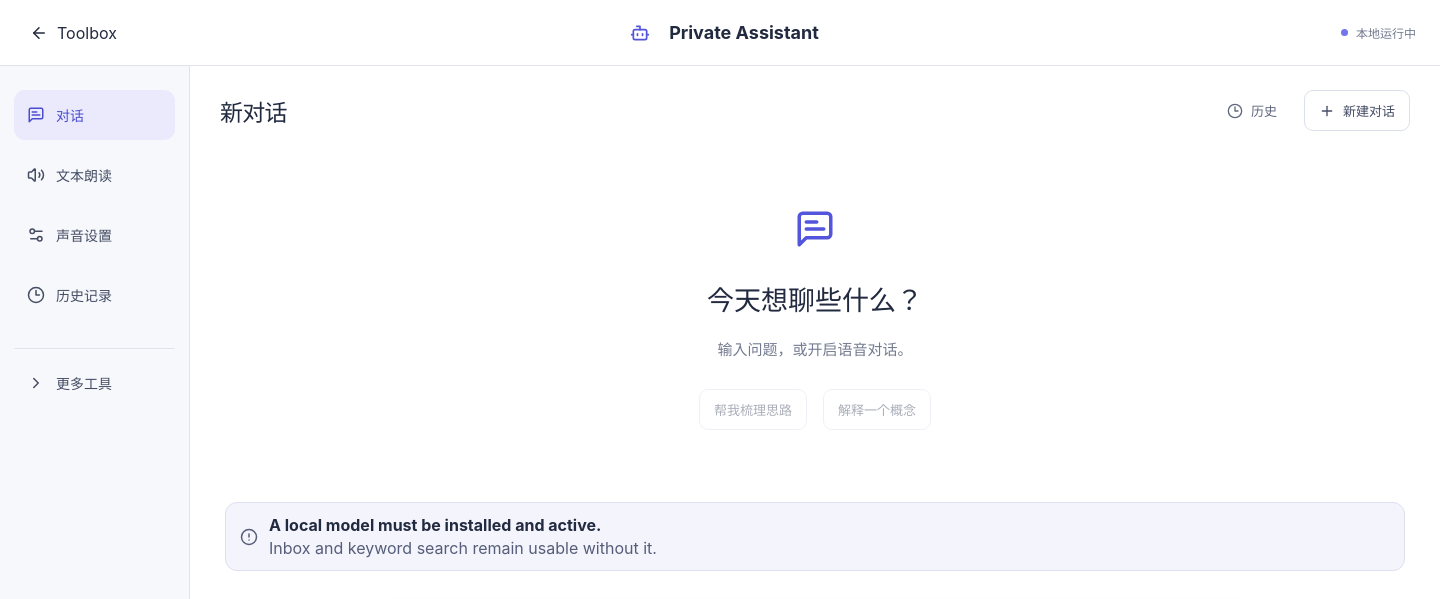
Test: Private Assistant workspace › normalizes an invalid Assistant route and preserves Back/Forward hash navigation
Check: the heading "新对话" is shown, box [220, 94, 287, 128]
Step 1. Click the button "更多工具" → coordinates (94, 378), box [14, 348, 175, 408]
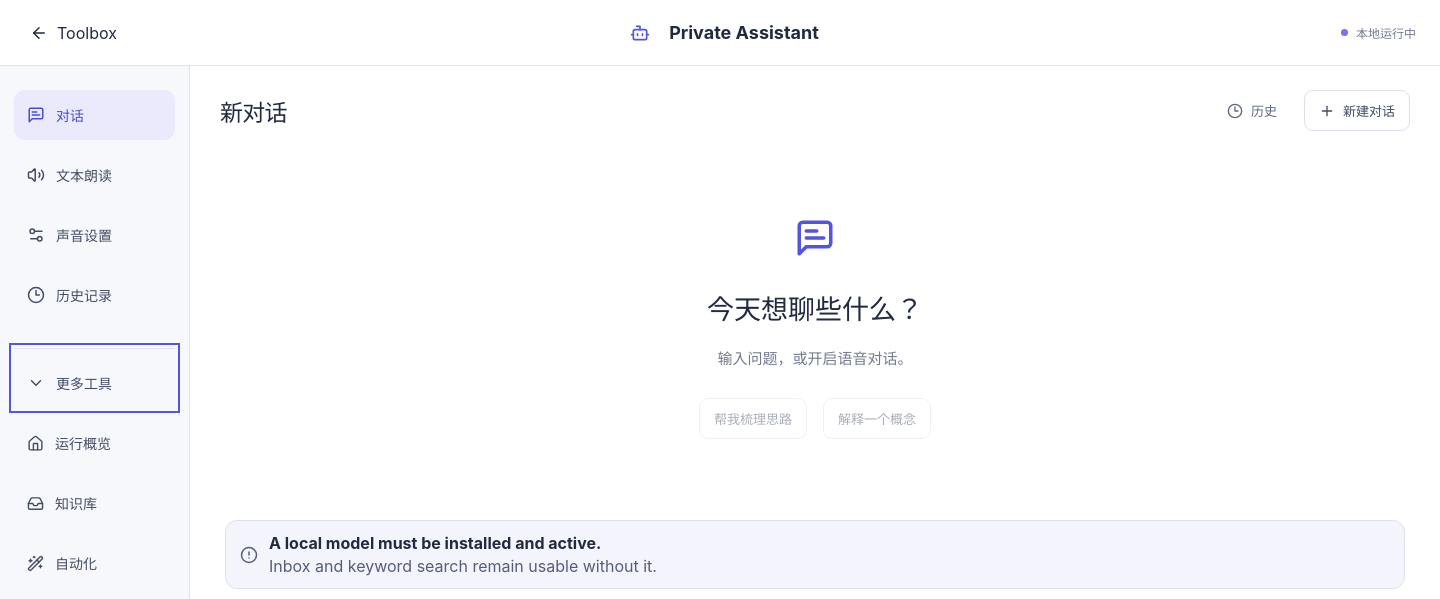
Step 2. Click the button "知识库" → coordinates (94, 503), box [14, 478, 175, 528]
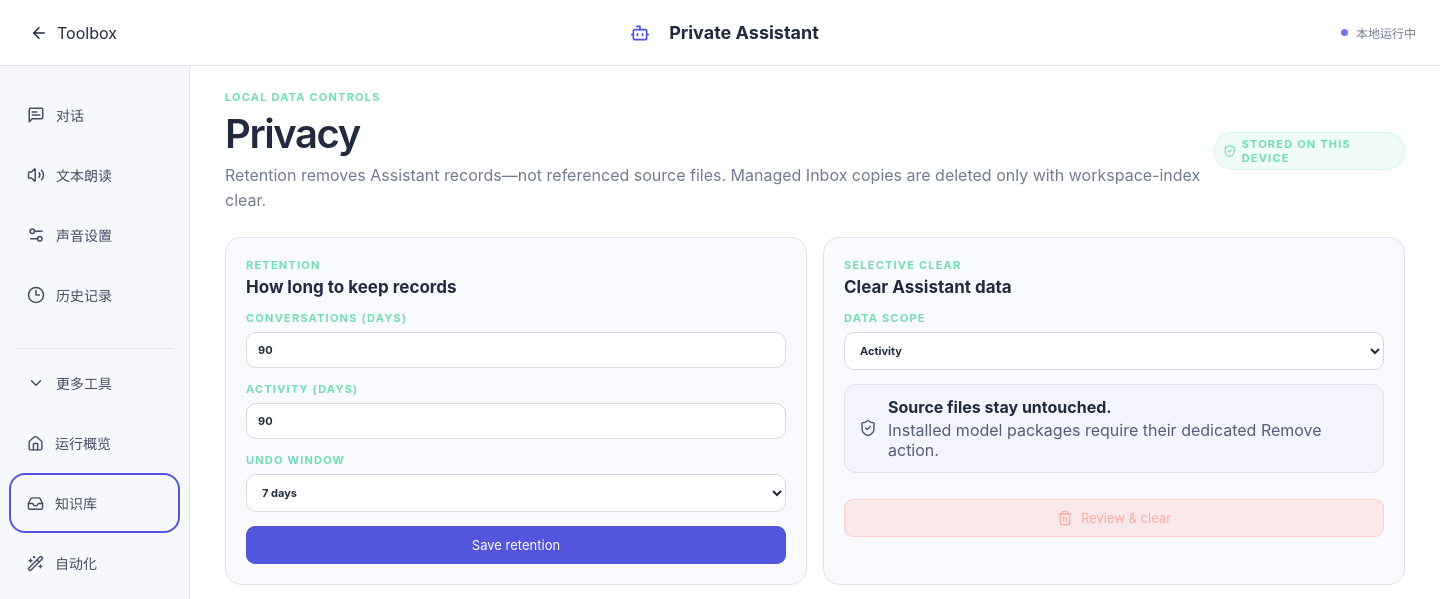
Check: the heading "Privacy" is shown, box [225, 109, 360, 158]
